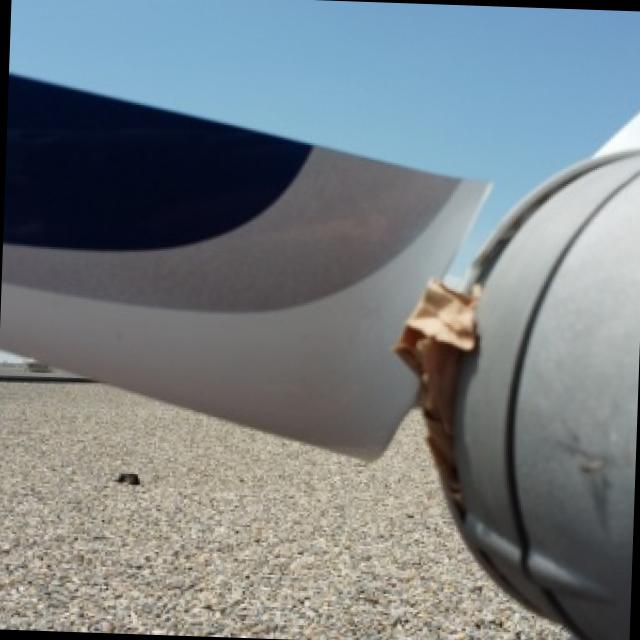healthy: (0, 72, 483, 454), (400, 150, 640, 640)
